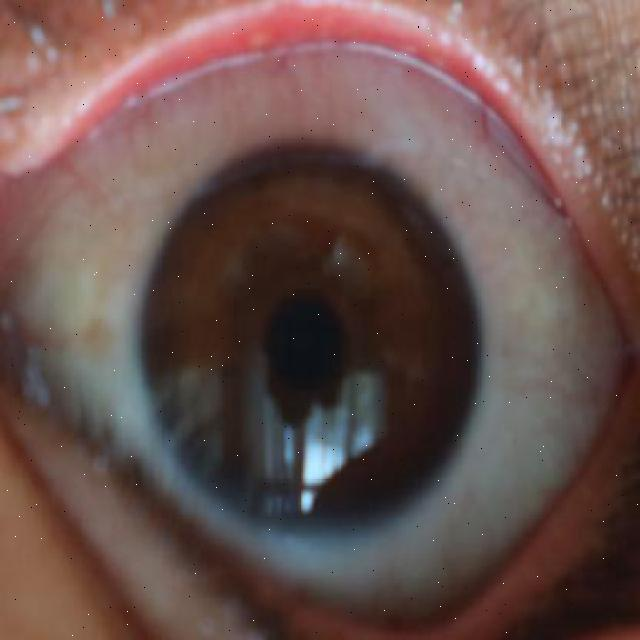Normal: (148, 147, 484, 540)
